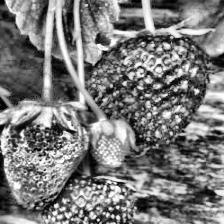Gray Mold: (0, 100, 91, 211)
